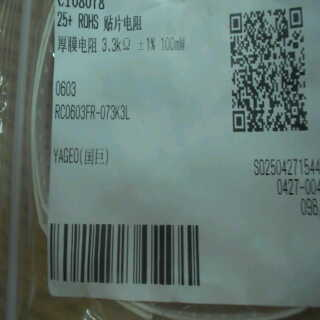3.3kO: (99, 34, 135, 57)
